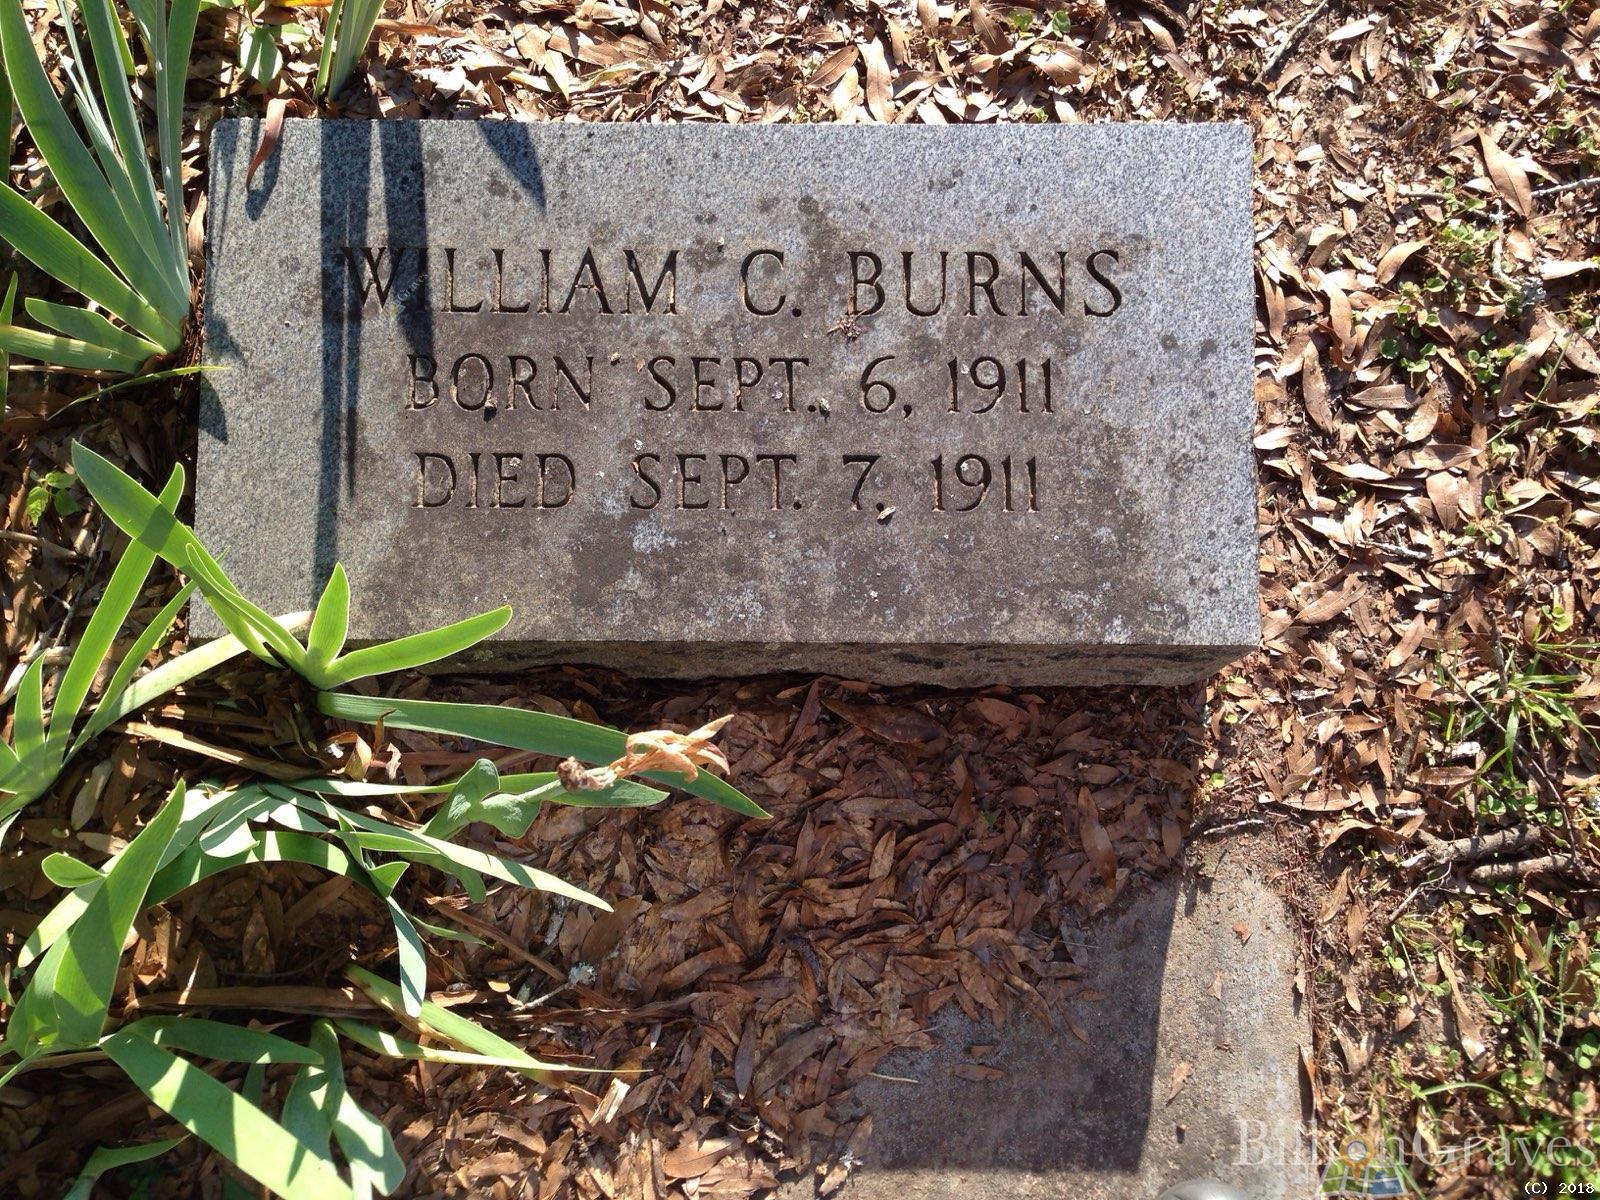flat: (197, 115, 1259, 676)
